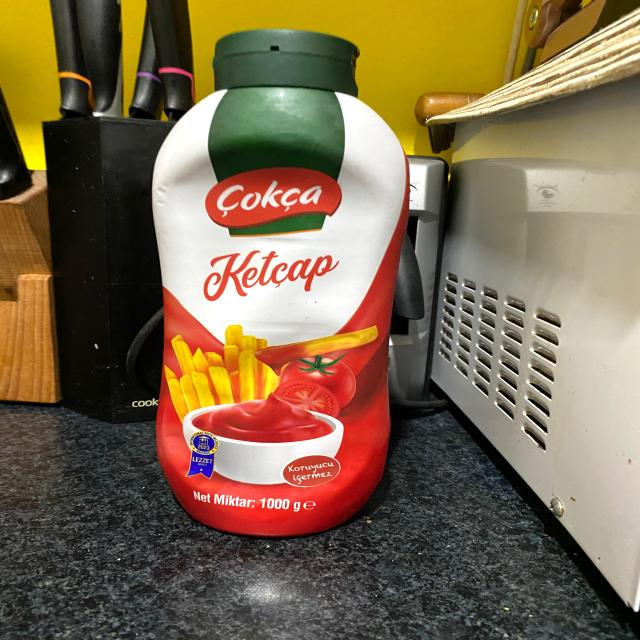ketchup: (134, 24, 449, 543)
